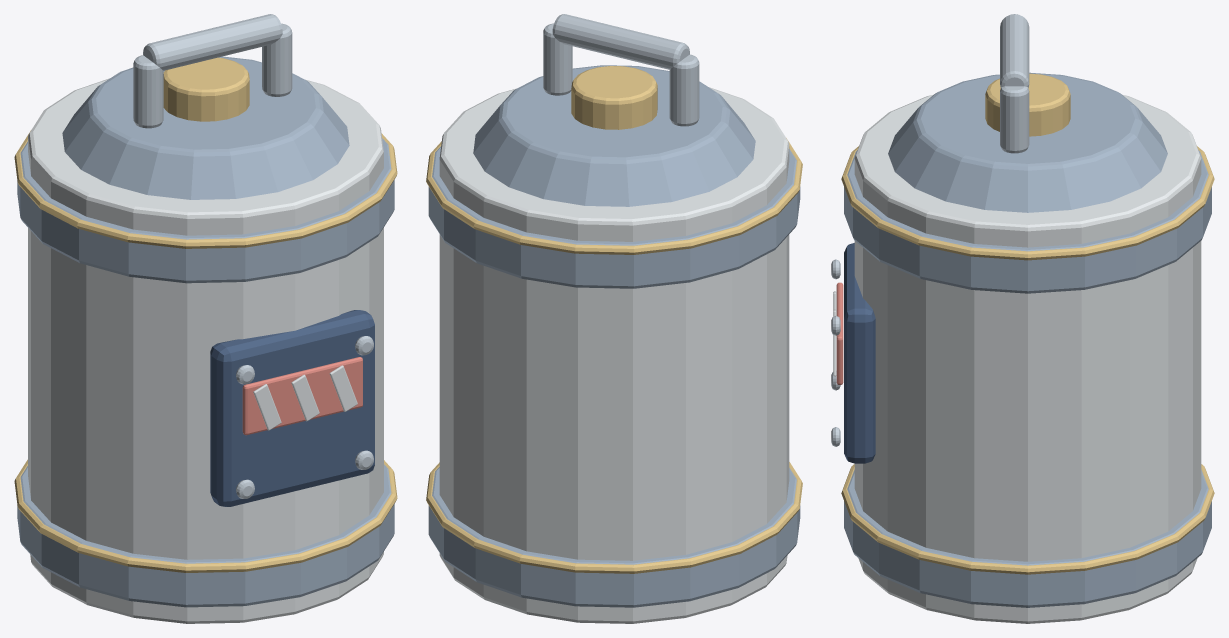
File: PressureCanister.fbx
The picture shows the model from 3 angles, left to right: view 1: azimuth 30°, elevation 25°; view 2: azimuth 150°, elevation 25°; view 3: azimuth 270°, elevation 25°; orthographic projection. The views are drawn at different scales.
Visible parts, largest first — view 1: PressureCanister; view 2: PressureCanister; view 3: PressureCanister.
Boxes of the visible parts, x1=… form: PressureCanister: x1=14, y1=14, x2=397, y2=623; PressureCanister: x1=426, y1=14, x2=802, y2=623; PressureCanister: x1=831, y1=14, x2=1214, y2=623.
Bounding box in the file's own units: 1.4 × 2.11 × 1.44.
